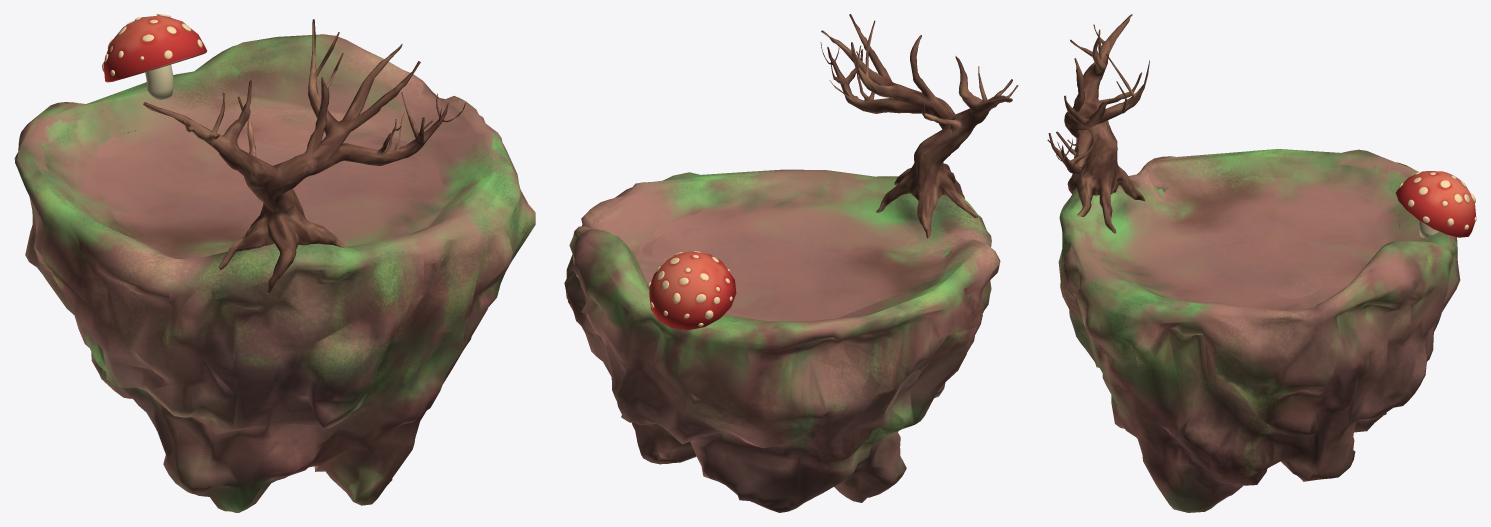
File: static.glb
The picture shows the model from 3 angles, left to right: view 1: azimuth 30°, elevation 25°; view 2: azimuth 150°, elevation 25°; view 3: azimuth 270°, elevation 25°; orthographic projection. The views are drawn at different scales.
Parts seen in each view (by area): view 1: island rock remeshed.001, tree remeshed.001, mushroom.001, mushroom spot collapsed.001; view 2: island rock remeshed.001, tree remeshed.001, mushroom.001, mushroom spot collapsed.001; view 3: island rock remeshed.001, tree remeshed.001, mushroom.001, mushroom spot collapsed.001.
Boxes of the visible parts, bbox=[...] form: island rock remeshed.001: bbox=[14, 34, 535, 512]; tree remeshed.001: bbox=[143, 19, 465, 294]; mushroom.001: bbox=[103, 15, 206, 99]; mushroom spot collapsed.001: bbox=[102, 14, 205, 75]; island rock remeshed.001: bbox=[564, 169, 1000, 512]; tree remeshed.001: bbox=[820, 14, 1018, 238]; mushroom.001: bbox=[649, 251, 736, 330]; mushroom spot collapsed.001: bbox=[647, 251, 732, 326]; island rock remeshed.001: bbox=[1058, 149, 1460, 512]; tree remeshed.001: bbox=[1047, 14, 1149, 233]; mushroom.001: bbox=[1395, 171, 1476, 237]; mushroom spot collapsed.001: bbox=[1398, 171, 1476, 229].
Bounding box in the file's own units: 48.46 × 54.32 × 49.36.
Materials: 4 (3 with a texture image).
